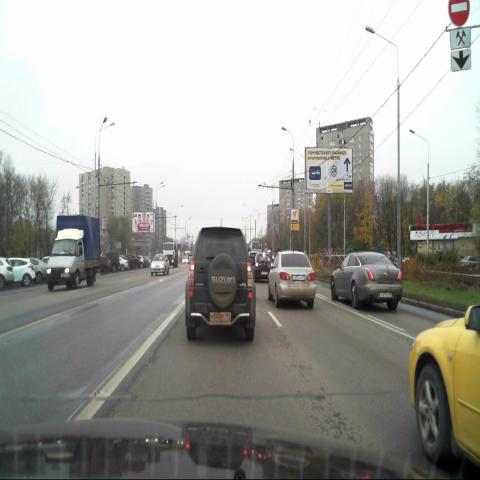8_5_2: (450, 28, 470, 49)
